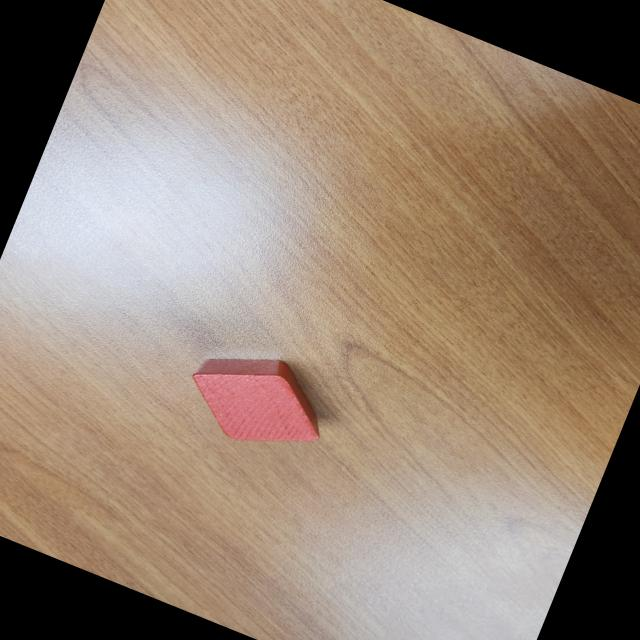red: (173, 330, 340, 470)
